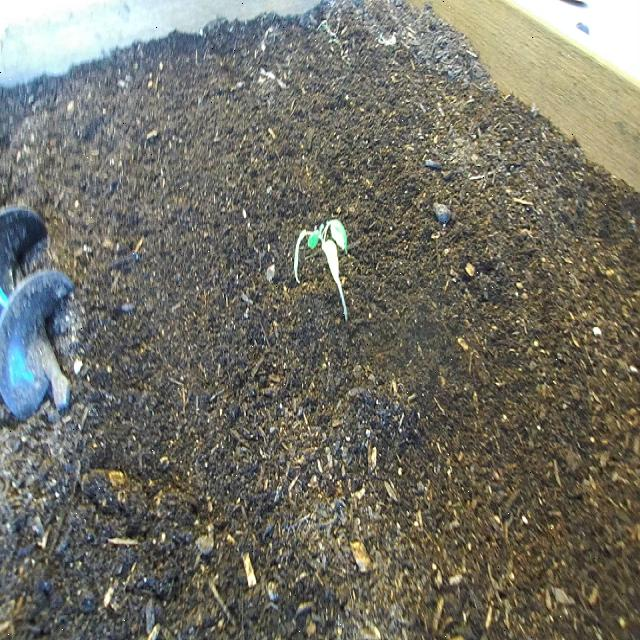Healthy: (293, 213, 357, 332)
